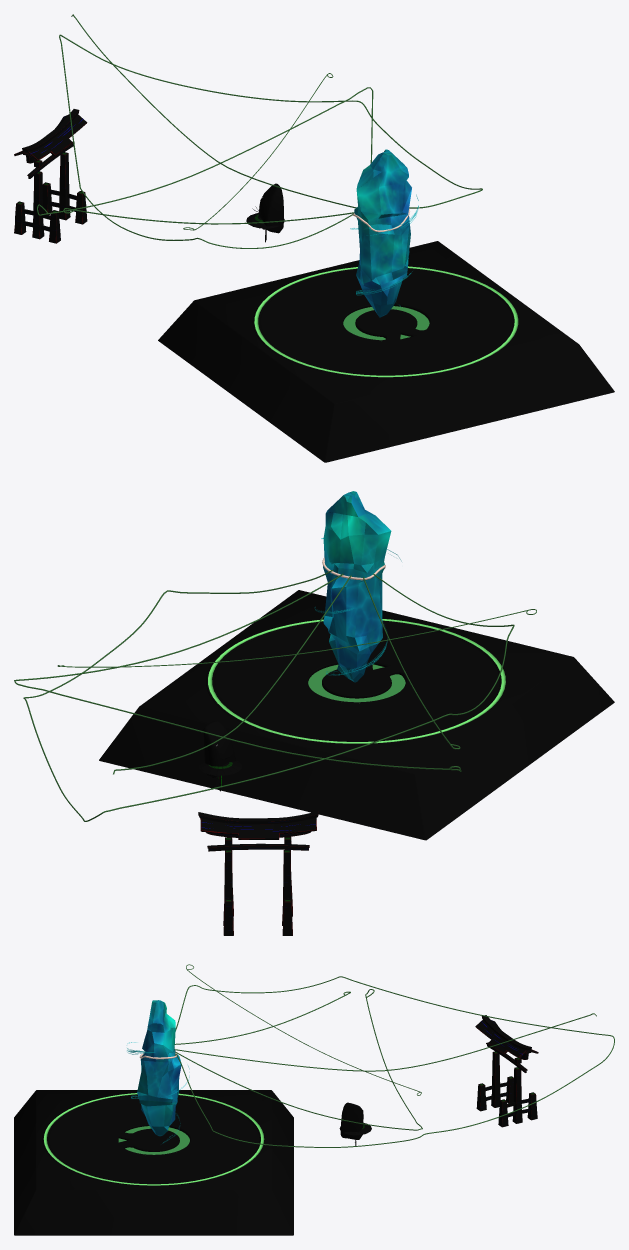
Rendered from scene_gpu.glb.
3 views of the same model, one above another, from view 1: azimuth 30°, elevation 25°; view 2: azimuth 150°, elevation 25°; view 3: azimuth 270°, elevation 25° (orthographic). The views are drawn at different scales.
Visible parts, largest first — view 1: stage, stagePattern, crystal, ToriMainGate1, stageLogo, rope1, RocksSmooth4, float_ToriMainGate1.001, float_ToriMainGate1, rope2; view 2: stage, stagePattern, crystal, stageLogo, rope1, float_ToriMainGate1, rope2, ToriMainGate1, float_ToriMainGate1.001, RocksSmooth4, rope5, rope3; view 3: stage, stagePattern, crystal, ToriMainGate1, stageLogo, rope1, rope3, RocksSmooth4, rope2, float_ToriMainGate1.001, float_ToriMainGate1.
Part boxes in pixels (x1,y1,x2,y2): stage: (158, 241, 614, 462); stagePattern: (260, 269, 511, 374); crystal: (354, 149, 411, 317); ToriMainGate1: (14, 152, 87, 243); stageLogo: (340, 302, 432, 341); rope1: (59, 34, 482, 248); RocksSmooth4: (259, 183, 283, 233); float_ToriMainGate1.001: (14, 114, 87, 161); float_ToriMainGate1: (22, 109, 79, 178); rope2: (37, 87, 373, 215); stage: (99, 590, 614, 840); stagePattern: (215, 622, 498, 740); crystal: (323, 491, 391, 682); stageLogo: (304, 659, 408, 703); rope1: (23, 570, 514, 821); float_ToriMainGate1: (198, 811, 318, 851); rope2: (14, 573, 461, 771); ToriMainGate1: (223, 850, 292, 935); float_ToriMainGate1.001: (200, 817, 316, 839); RocksSmooth4: (203, 721, 235, 776); rope5: (57, 609, 536, 667); rope3: (113, 575, 351, 774); stage: (14, 1090, 293, 1235); stagePattern: (49, 1095, 258, 1183); crystal: (137, 1000, 181, 1136); ToriMainGate1: (476, 1051, 537, 1127); stageLogo: (115, 1123, 192, 1155); rope1: (175, 976, 614, 1147); rope3: (175, 1013, 596, 1071); RocksSmooth4: (340, 1102, 363, 1139); rope2: (175, 989, 422, 1130); float_ToriMainGate1.001: (475, 1020, 538, 1058); float_ToriMainGate1: (481, 1015, 531, 1072).
Size of the model in its own units: 103 by 56.89 by 176.
Materials: 14 (3 with a texture image).
